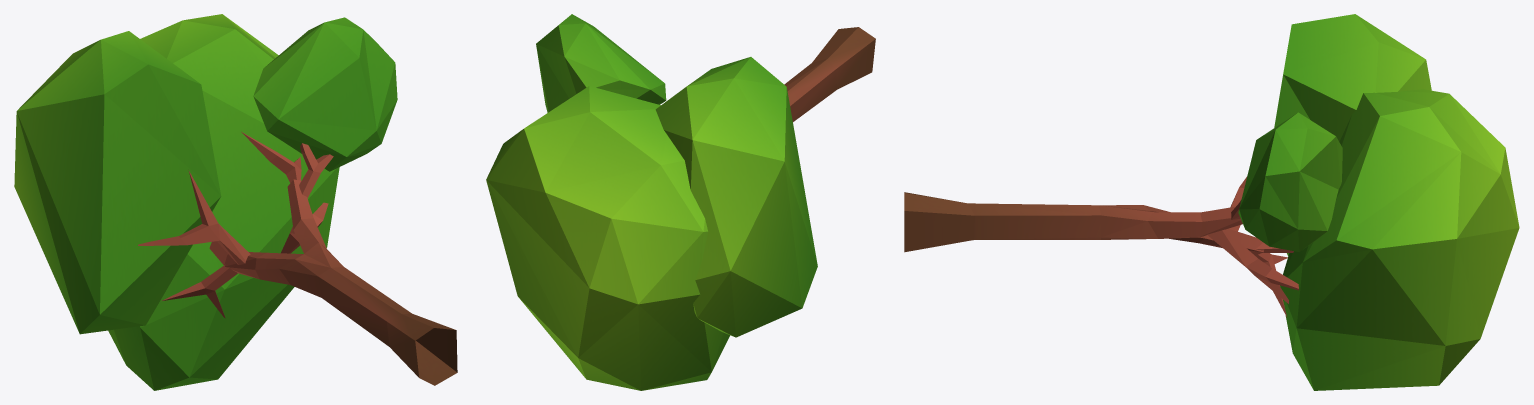
Rendered from Tree2.fbx.
The picture shows the model from 3 angles, left to right: view 1: azimuth 30°, elevation 25°; view 2: azimuth 150°, elevation 25°; view 3: azimuth 270°, elevation 25°; orthographic projection. The views are drawn at different scales.
Parts seen in each view (by area): view 1: SM_Tree_02; view 2: SM_Tree_02; view 3: SM_Tree_02.
Part boxes in pixels (left/top/right/bottom): SM_Tree_02: left=14, top=14, right=457, bottom=390; SM_Tree_02: left=486, top=14, right=875, bottom=390; SM_Tree_02: left=904, top=14, right=1519, bottom=390.
Bounding box in the file's own units: 109 × 115 × 190.
